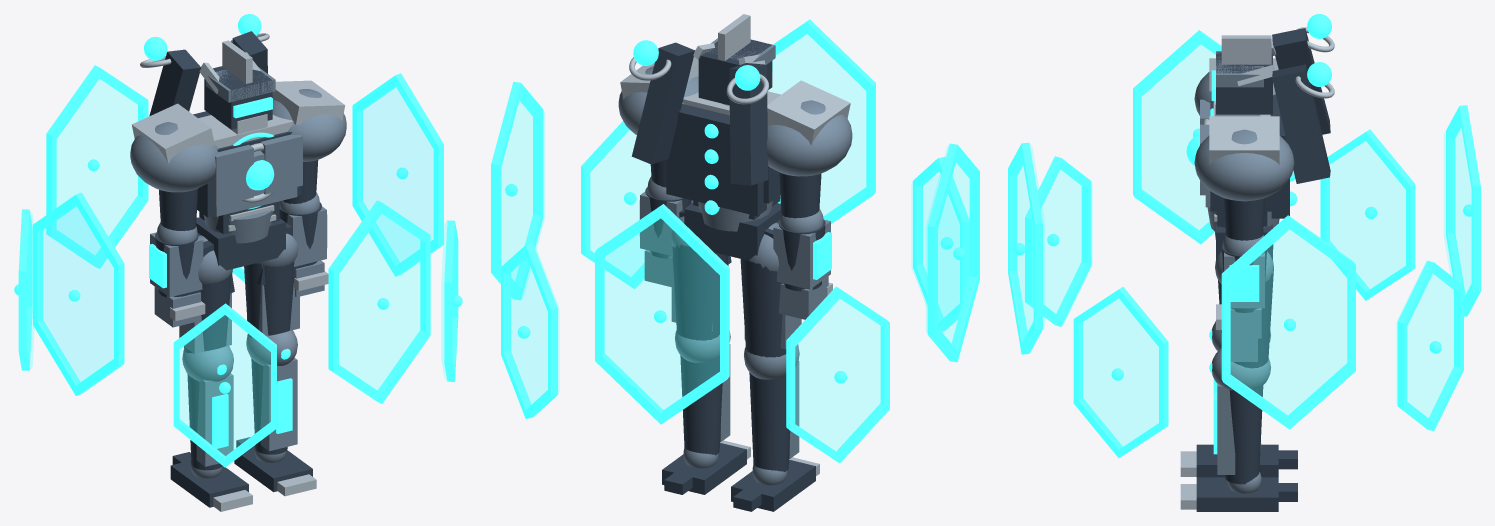
Rendered from vanguard.glb.
The picture shows the model from 3 angles, left to right: view 1: azimuth 30°, elevation 25°; view 2: azimuth 150°, elevation 25°; view 3: azimuth 270°, elevation 25°; orthographic projection. The views are drawn at different scales.
Parts seen in each view (by area): view 1: bulwark_pane_4, bulwark_pane_0, bulwark_pane_2, bulwark_pane_6, bulwark_pane_7, bulwark_frame_0, bulwark_frame_6, bulwark_frame_2, bulwark_frame_4, pauldron_-1, bulwark_frame_7, thigh_1 (+48 smaller); view 2: bulwark_pane_4, bulwark_pane_5, bulwark_pane_0, bulwark_pane_2, bulwark_pane_1, back_plate, bulwark_frame_4, bulwark_pane_6, bulwark_pane_3, bulwark_frame_6, bulwark_frame_2, bulwark_pane_7 (+37 smaller); view 3: bulwark_pane_2, bulwark_pane_5, bulwark_pane_6, bulwark_pane_1, bulwark_pane_7, bulwark_pane_3, bulwark_frame_2, pauldron_1, bulwark_pane_4, bulwark_frame_0, pylon_r, bulwark_frame_1 (+24 smaller).
Boxes of the visible parts, x1,y1,x2,y2 form: bulwark_pane_4: (52,69,148,267); bulwark_pane_0: (328,214,423,391); bulwark_pane_2: (352,77,437,275); bulwark_pane_6: (40,206,124,383); bulwark_pane_7: (179,315,270,457); bulwark_frame_0: (328,200,430,403); bulwark_frame_6: (33,192,124,395); bulwark_frame_2: (352,73,443,276); bulwark_frame_4: (46,65,148,268); pauldron_-1: (130,122,218,192); bulwark_frame_7: (173,303,276,467); thigh_1: (244,261,294,337); bulwark_pane_4: (603,219,719,411); bulwark_pane_5: (795,299,882,452); bulwark_pane_0: (768,24,872,221); bulwark_pane_2: (499,84,544,298); bulwark_pane_1: (585,127,650,288); back_plate: (666,104,766,216); bulwark_frame_4: (595,204,729,424); bulwark_pane_6: (926,145,974,347); bulwark_pane_3: (506,244,559,407); bulwark_frame_6: (927,143,979,362); bulwark_frame_2: (491,81,543,300); bulwark_pane_7: (911,159,959,318); bulwark_pane_2: (1231,230,1347,416); bulwark_pane_5: (1320,133,1410,299); bulwark_pane_6: (1135,35,1220,243); bulwark_pane_1: (1080,298,1168,447); bulwark_pane_7: (1041,159,1092,325); bulwark_pane_3: (1396,261,1458,420); bulwark_frame_2: (1221,215,1355,429); pauldron_1: (1194,129,1294,201); bulwark_pane_4: (1444,107,1472,305); bulwark_frame_0: (1008,142,1042,354); pylon_r: (1272,64,1330,183); bulwark_frame_1: (1073,287,1168,457).
Size of the model in its own units: 4.16 by 4.35 by 4.16.
